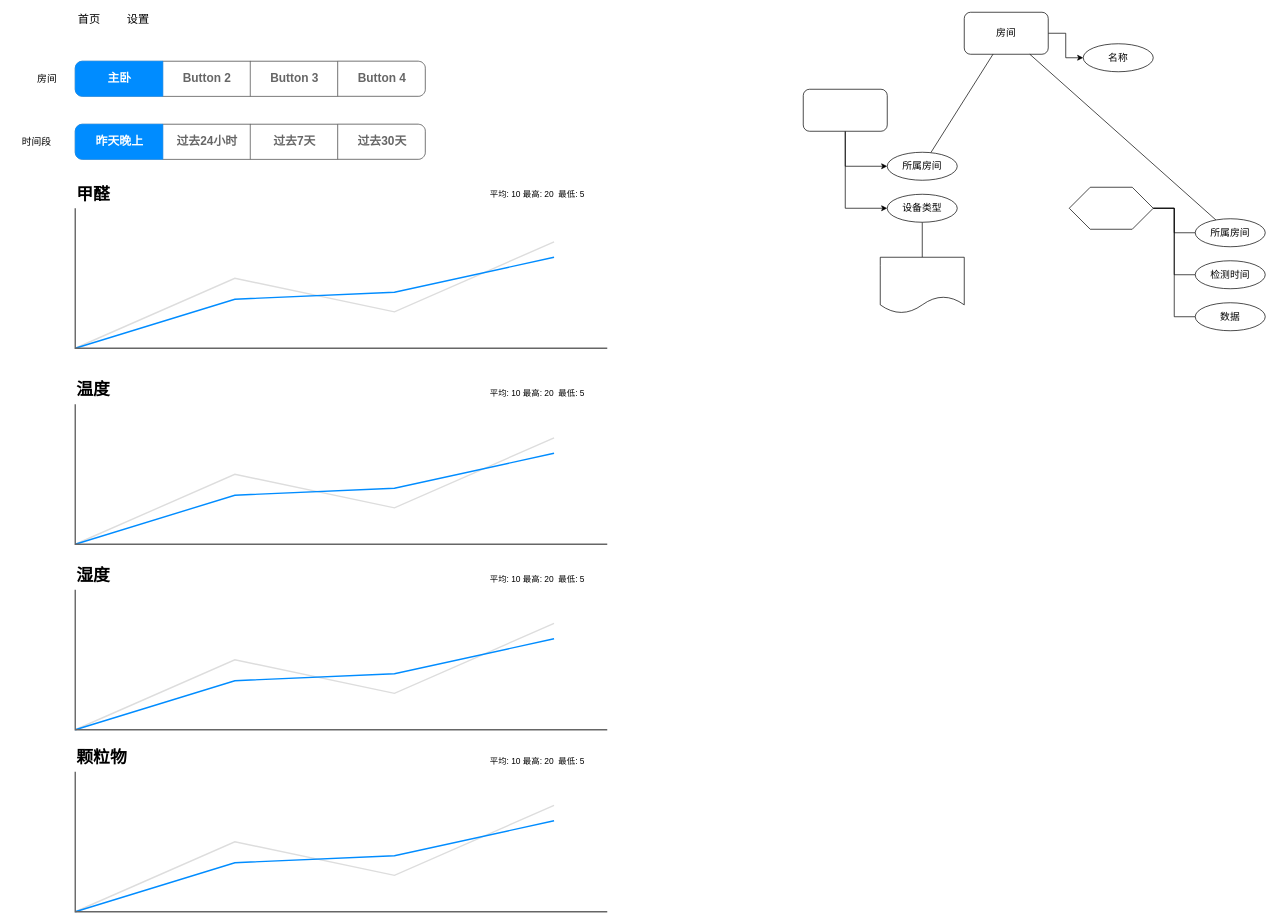
The diagram is 1278 pixels wide and 924 high, and some of its shapes have lost their labels. Here are the shapes that lost their labels. From the top down, the box of each, then its label:
(803, 89, 887, 131): 设备
(1069, 187, 1153, 229): 瞬时空气质量
(880, 257, 964, 313): 设备数据包定义
